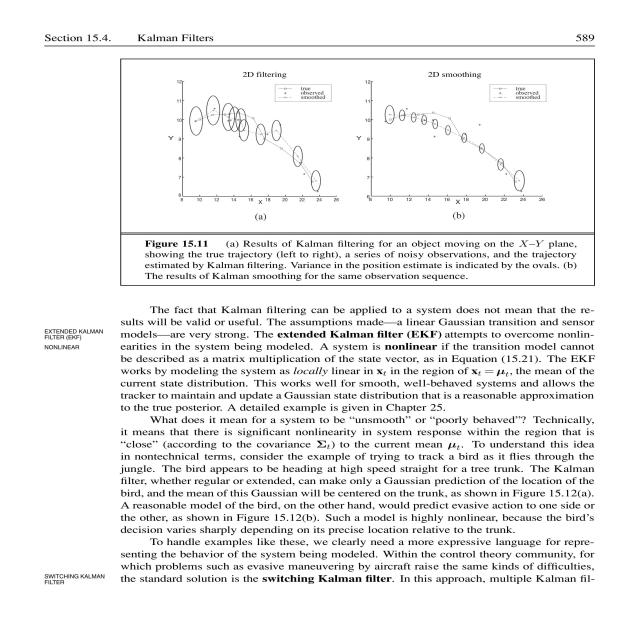diagram: (55, 53, 640, 296)
